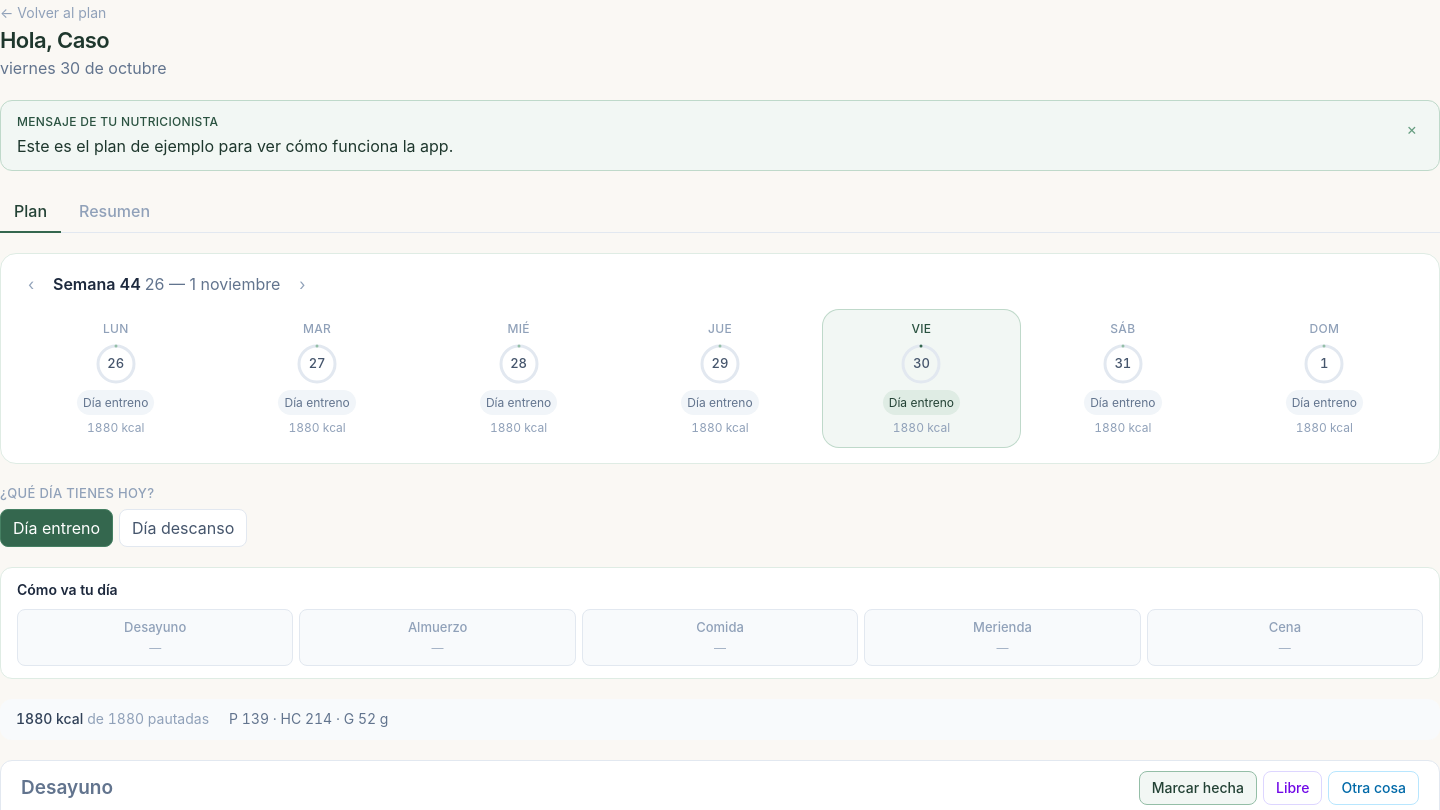
Test: Las cinco pestañas › se vuelve al plan sin perder nada
The image size is (1440, 810).
Step 1. Click the button "Resumen" → (114, 212), box [65,191,164,233]
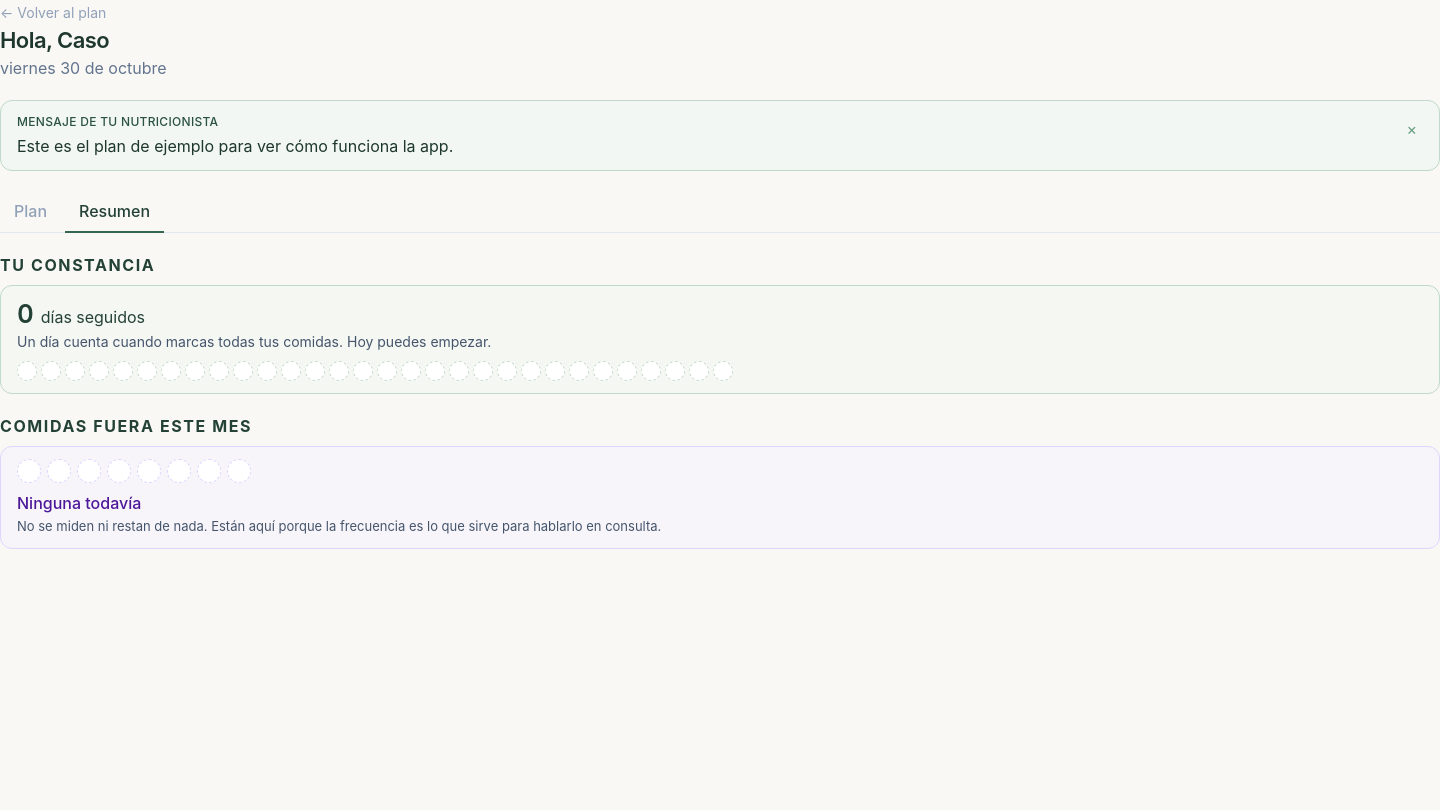
Step 2. Click the button "Plan" → (30, 212), box [0,191,61,233]
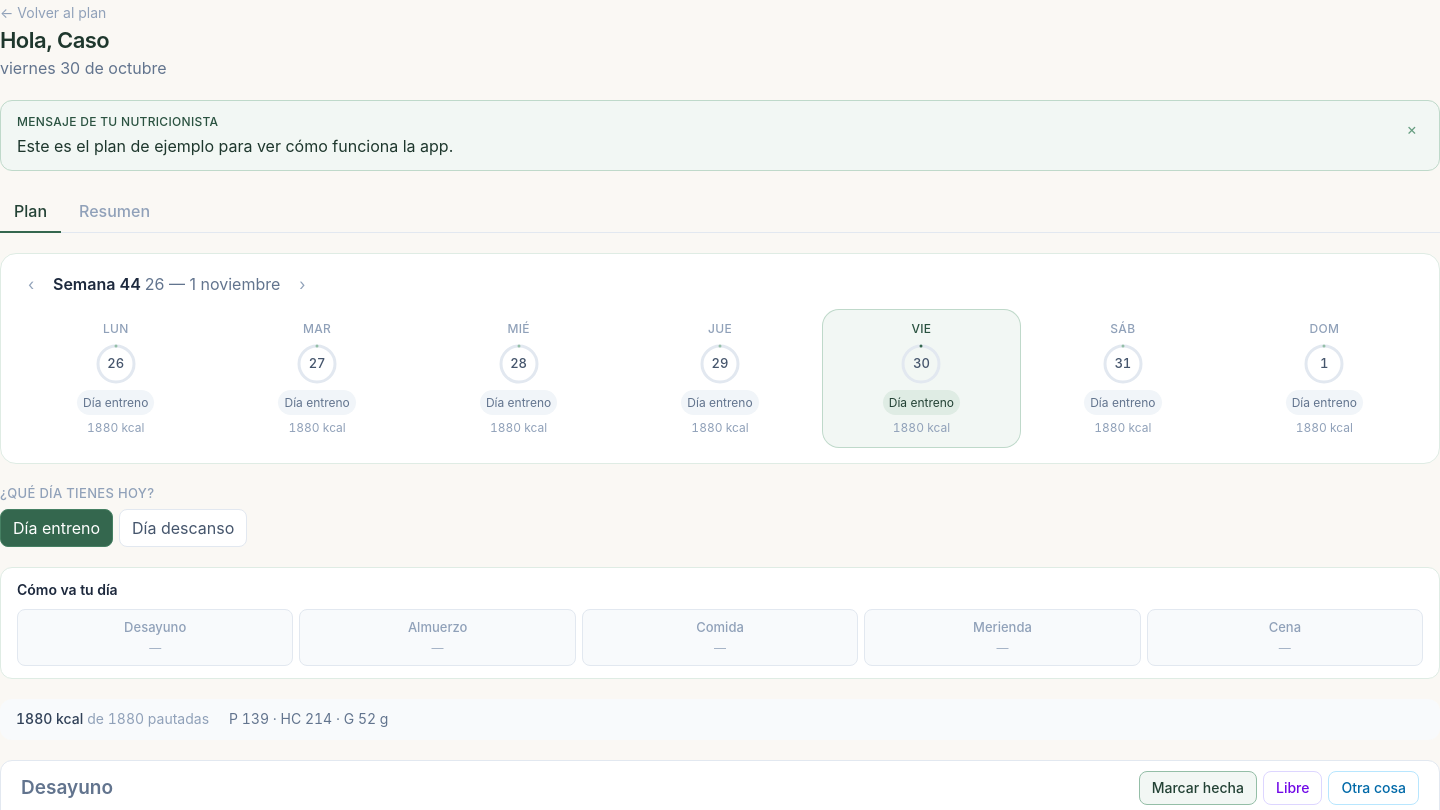
Expected: the heading "Hola, Caso" is shown, [0,27,109,53]
Expected: the heading "Tu constancia" is gone
